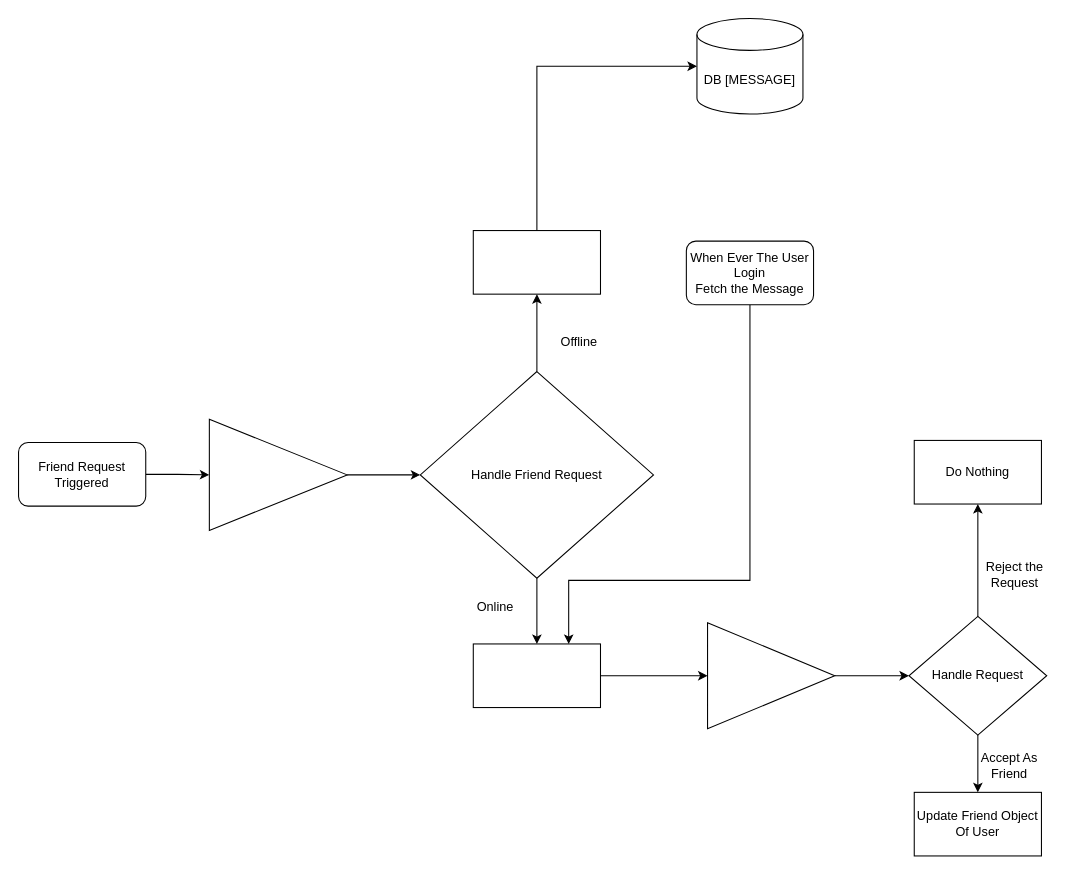
Some shapes in this 1065 by 874 pixel diagram are drawn without their labels. The shapes that lost their labels are listed below. From the top down, each one's centre as x and y in pixels, then its label:
the point at 536,261: Store The Message in New Collection
the point at 277,474: Web Socket Server
the point at 536,675: Route the Request
the point at 770,675: BE Server
